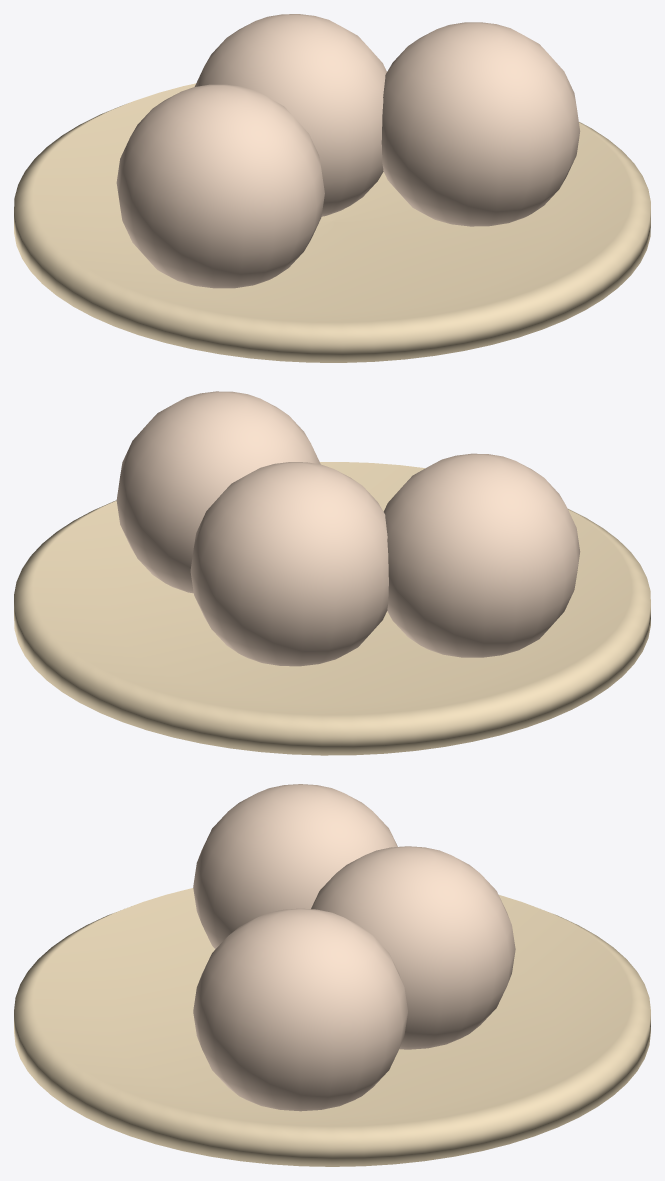
The model's file is 21-vanilla-mochi.glb.
3 renders of one model, top to bottom at view 1: azimuth 30°, elevation 25°; view 2: azimuth 150°, elevation 25°; view 3: azimuth 270°, elevation 25°, orthographic.
Visible parts, largest first — view 1: 바닐라 모찌; view 2: 바닐라 모찌; view 3: 바닐라 모찌.
Boxes of the visible parts, x1,y1,x2,y2 form: 바닐라 모찌: [14, 14, 650, 362]; 바닐라 모찌: [14, 391, 650, 755]; 바닐라 모찌: [14, 784, 650, 1166].
Bounding box in the file's own units: 1.6 × 0.55 × 1.6.
